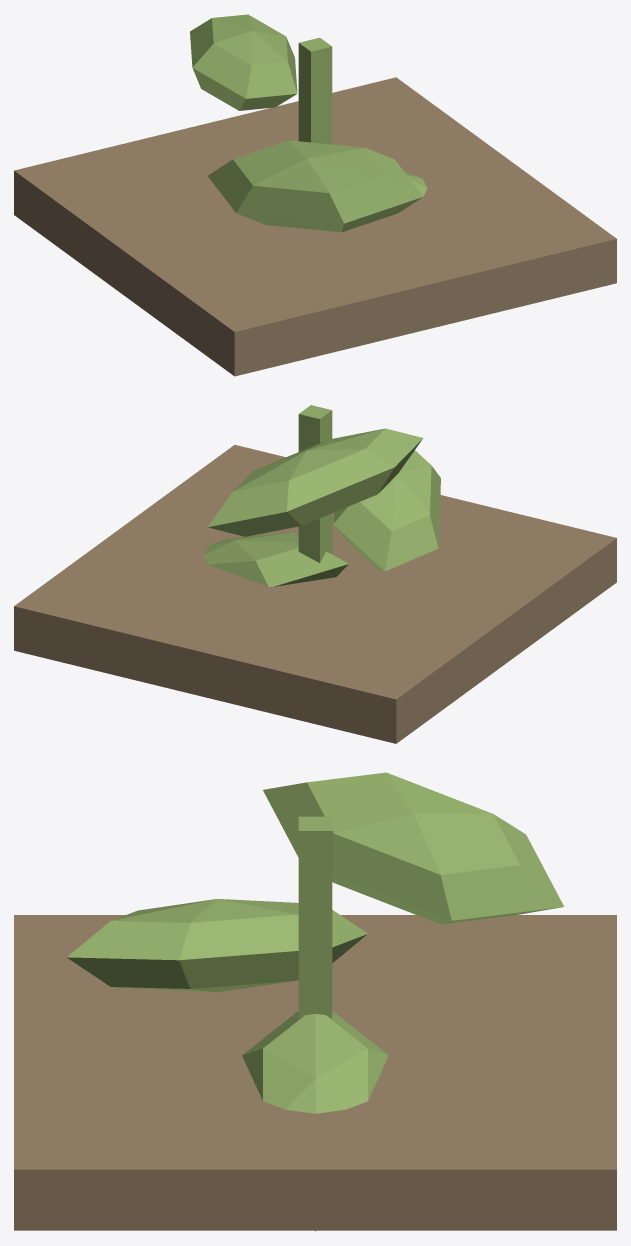
The model's file is cozy-farm-and-homestead-tomato-seedling-fd14563d__19426.glb.
The picture shows the model from 3 angles, top to bottom: view 1: azimuth 30°, elevation 25°; view 2: azimuth 150°, elevation 25°; view 3: azimuth 270°, elevation 25°; orthographic projection. The views are drawn at different scales.
Parts seen in each view (by area): view 1: tomato-seedling; view 2: tomato-seedling; view 3: tomato-seedling.
Part boxes in pixels (box(x1,y1,x2,y2)): tomato-seedling: box(14, 14, 616, 376); tomato-seedling: box(14, 405, 616, 743); tomato-seedling: box(14, 772, 616, 1231).
Size of the model in its own units: 0.45 by 0.2516 by 0.45.
